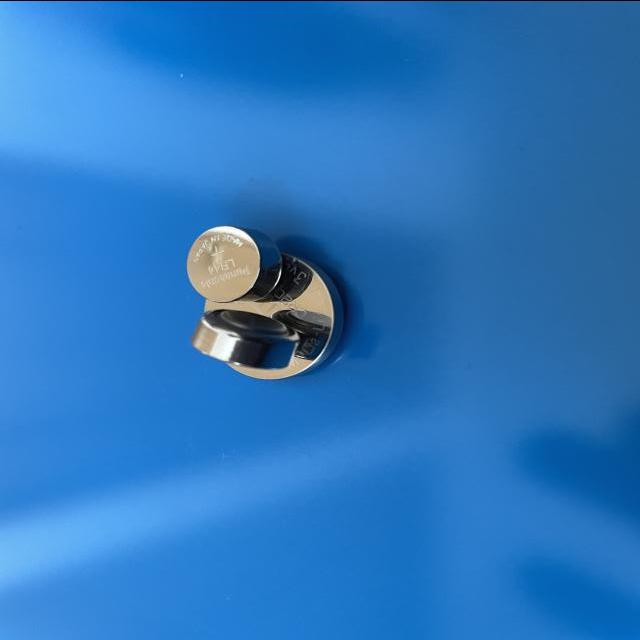COIN: (202, 248, 346, 380), (184, 222, 284, 302), (190, 306, 304, 369)
